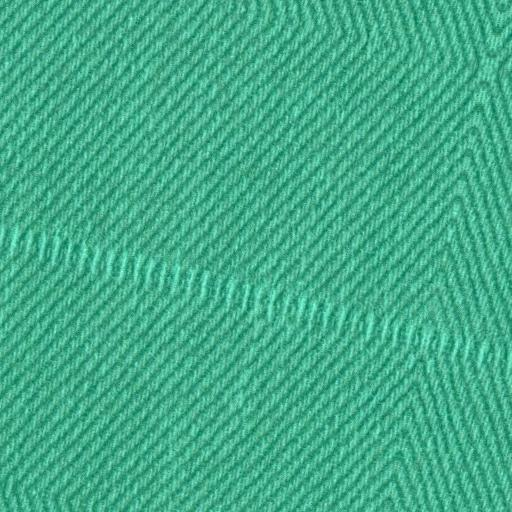slub: (2, 219, 512, 376)
